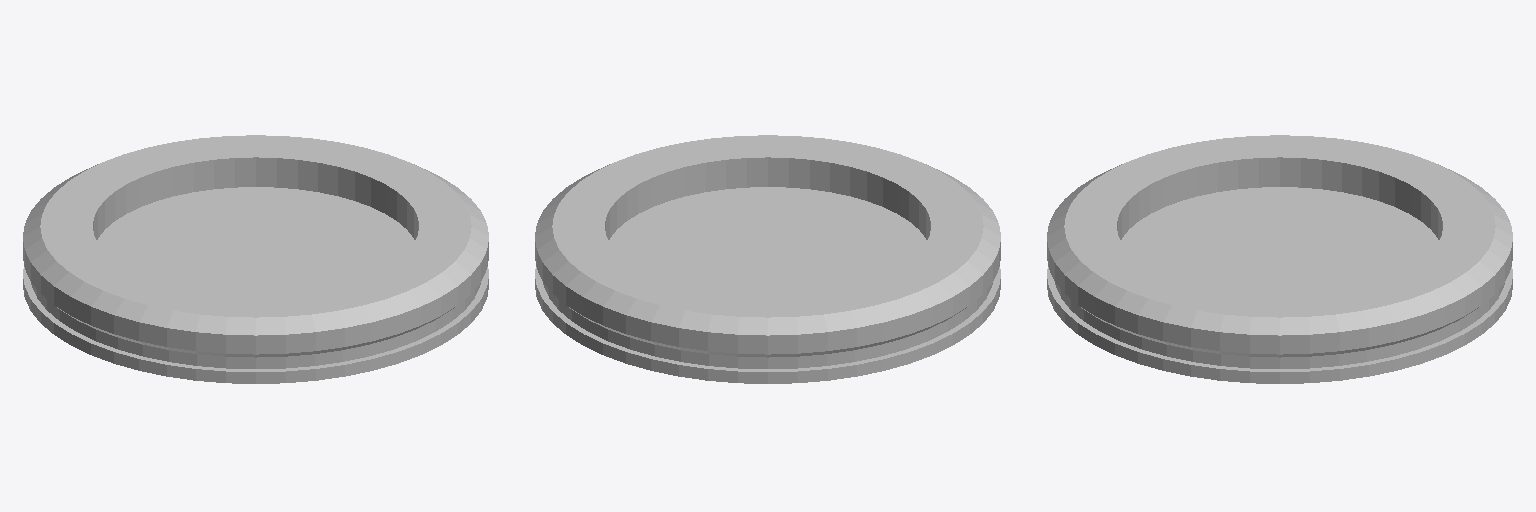
File: fountain-round.obj
3 views of the same model, side by side, from view 1: azimuth 30°, elevation 25°; view 2: azimuth 150°, elevation 25°; view 3: azimuth 270°, elevation 25° (orthographic).
Parts seen in each view (by area): view 1: fountain-round, (%ignore); view 2: fountain-round, (%ignore); view 3: fountain-round, (%ignore).
Part boxes in pixels (x1,y1,x2,y2): fountain-round: (23, 135, 488, 383); (%ignore): (97, 187, 414, 294); fountain-round: (535, 135, 1000, 383); (%ignore): (609, 187, 926, 294); fountain-round: (1047, 135, 1512, 383); (%ignore): (1121, 187, 1438, 294).
Size of the model in its own units: 2 by 0.28 by 2.